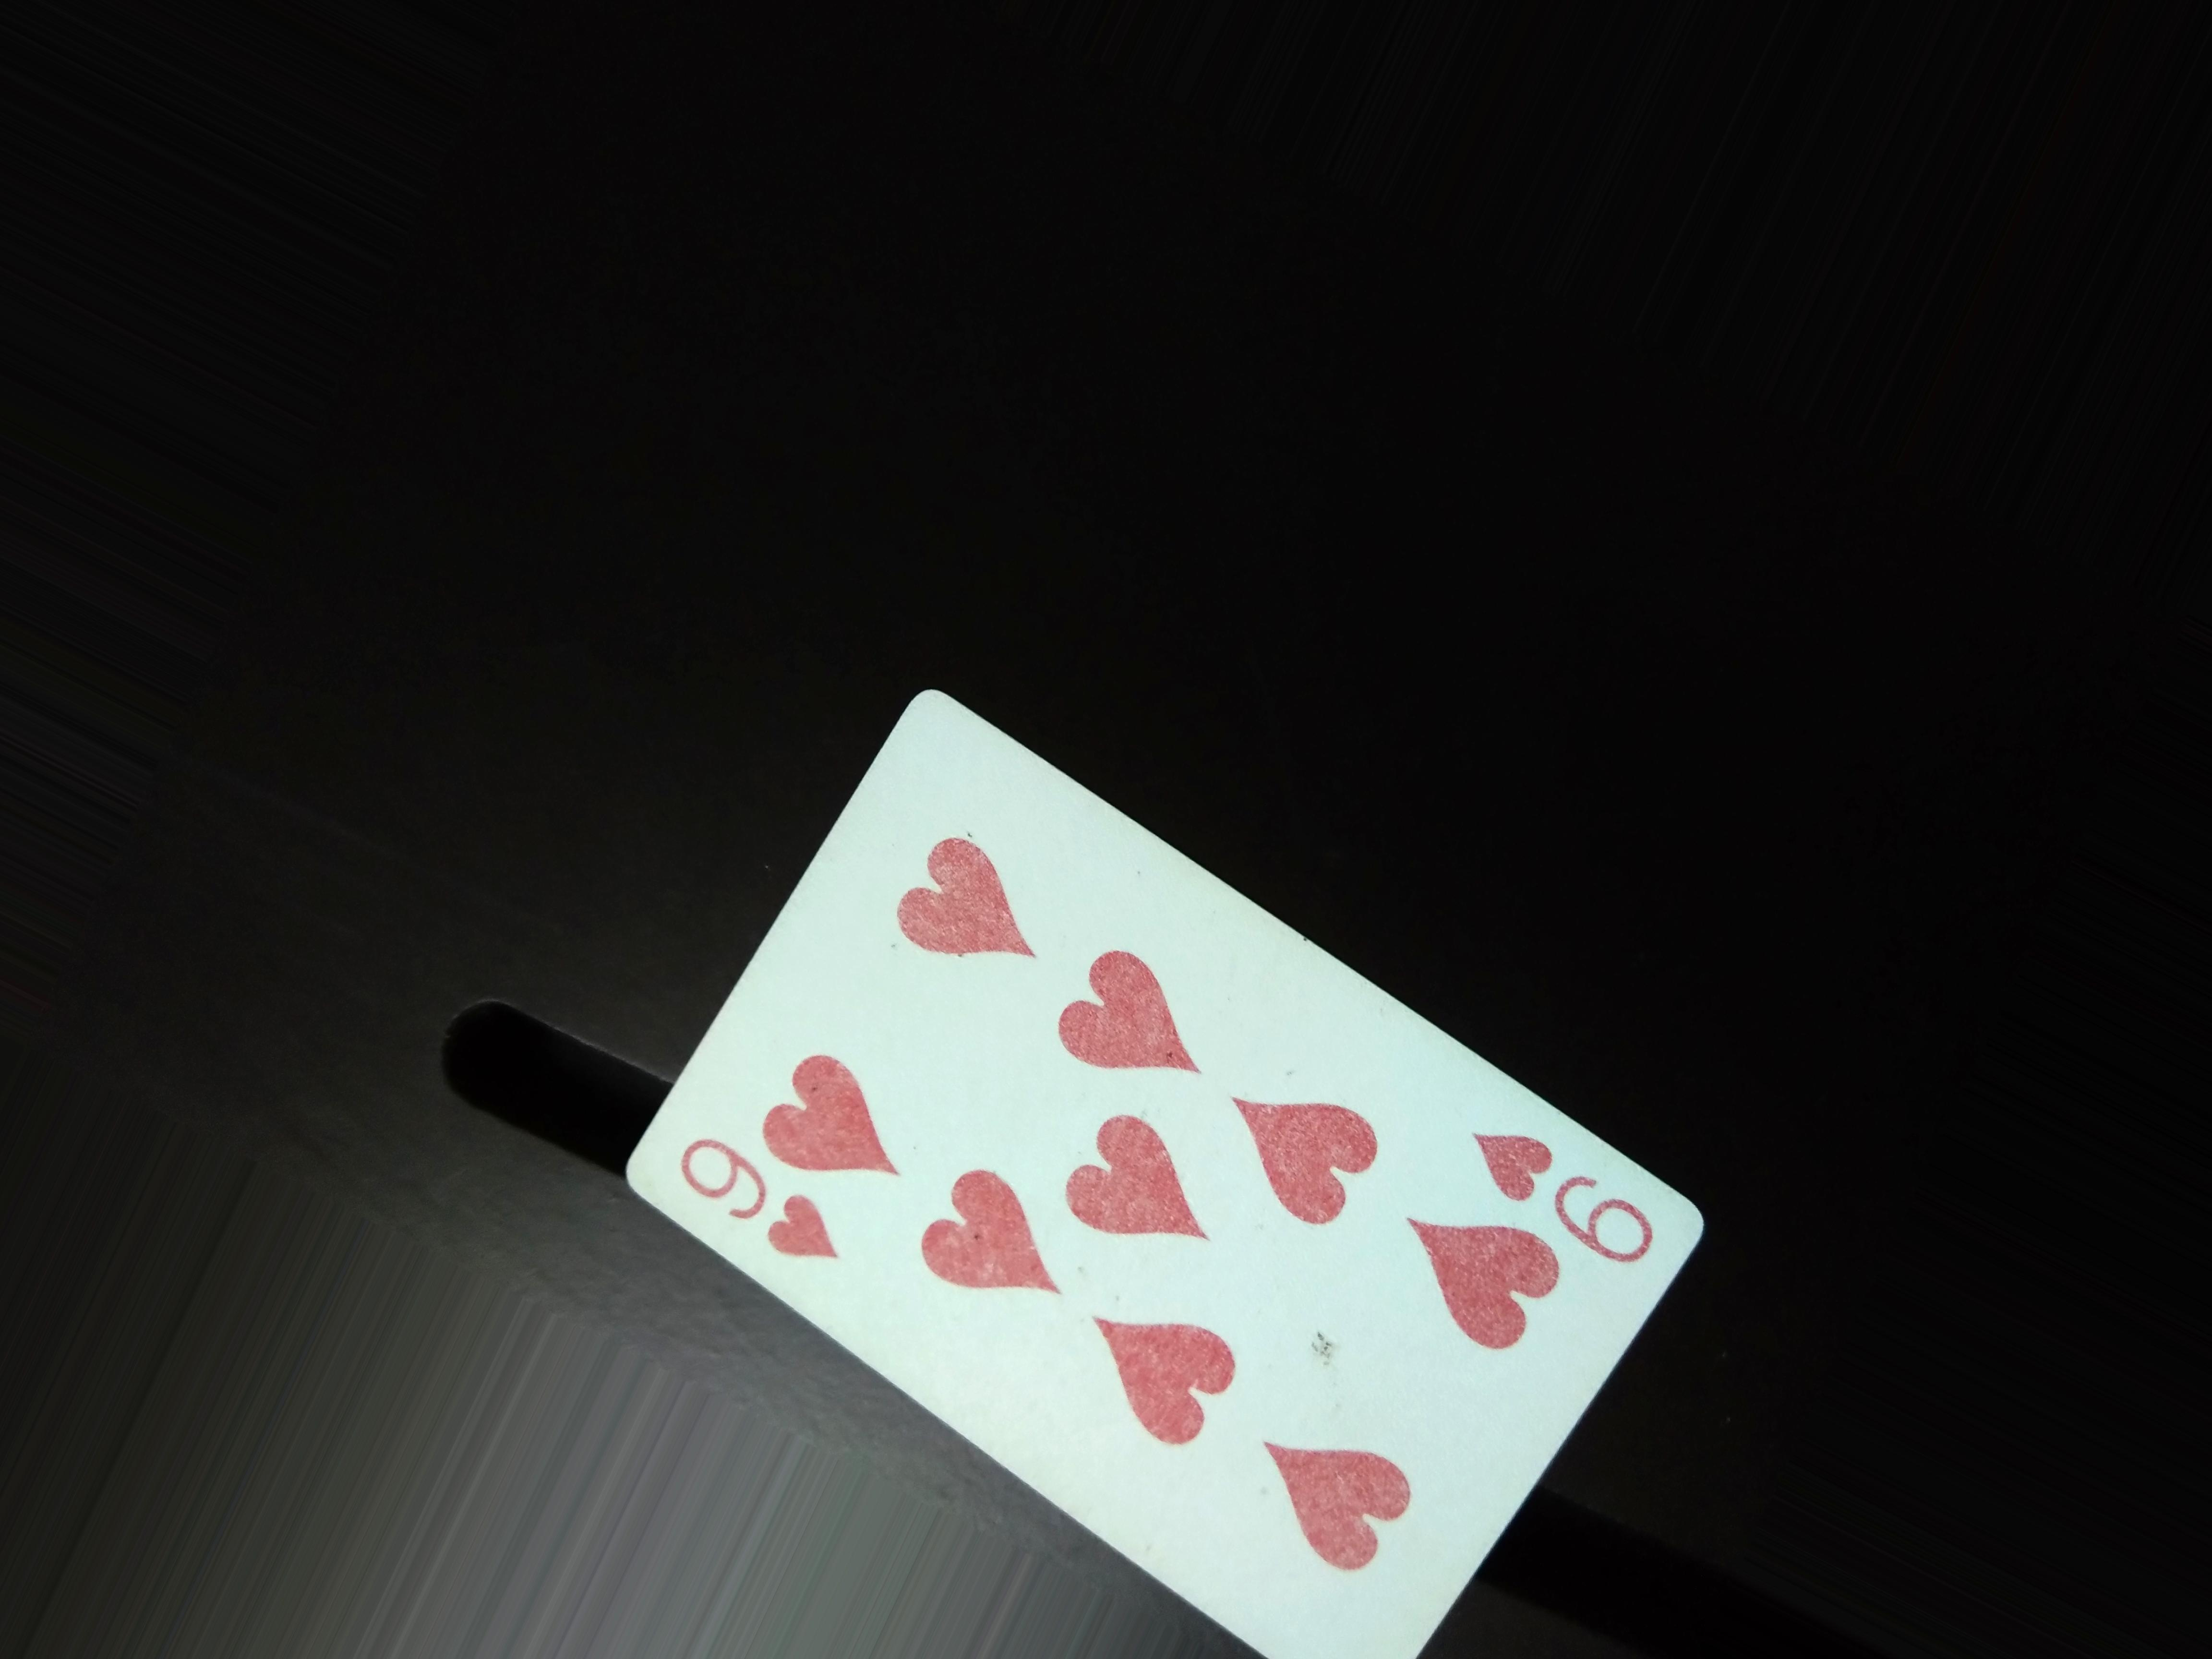9H: (667, 1133, 866, 1281)
